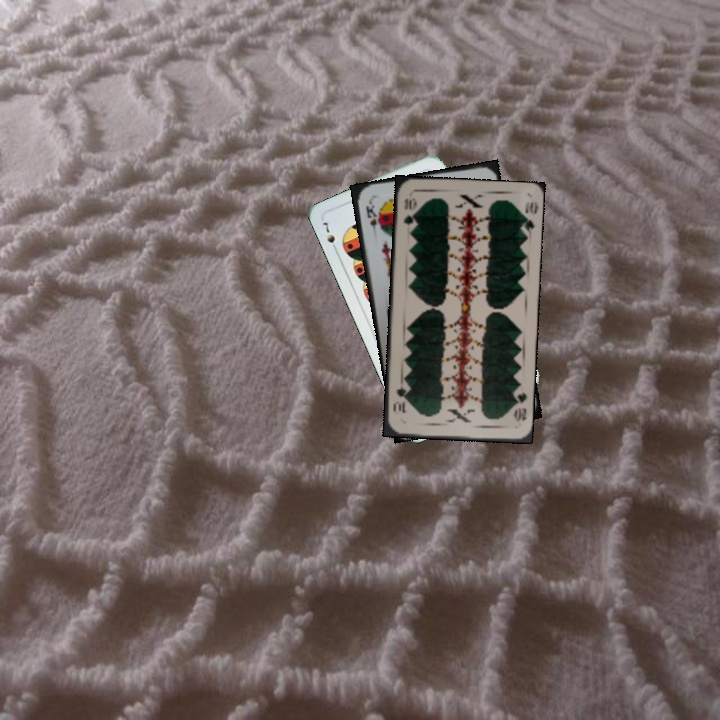G10: (509, 385, 529, 424), (400, 194, 418, 228)
S7: (318, 218, 340, 255)
SK: (362, 197, 379, 238)
